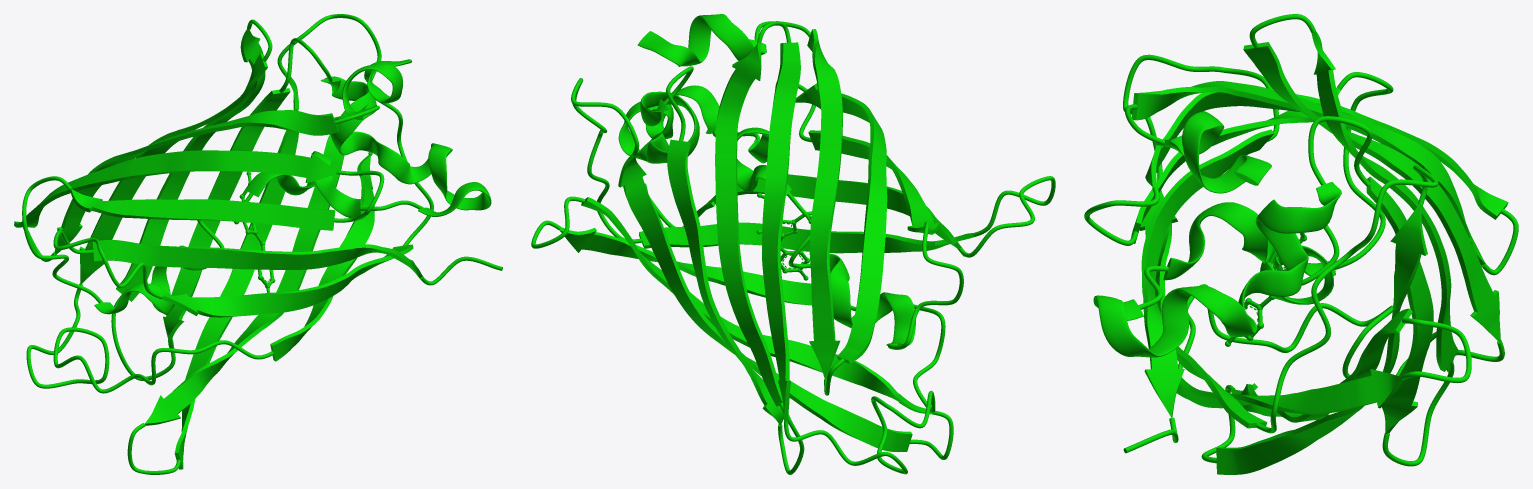
The model's file is asset.glb.
3 views of the same model, side by side, from view 1: azimuth 30°, elevation 25°; view 2: azimuth 150°, elevation 25°; view 3: azimuth 270°, elevation 25° (orthographic). The views are drawn at different scales.
Size of the model in its own units: 46.24 by 43.37 by 32.46.
